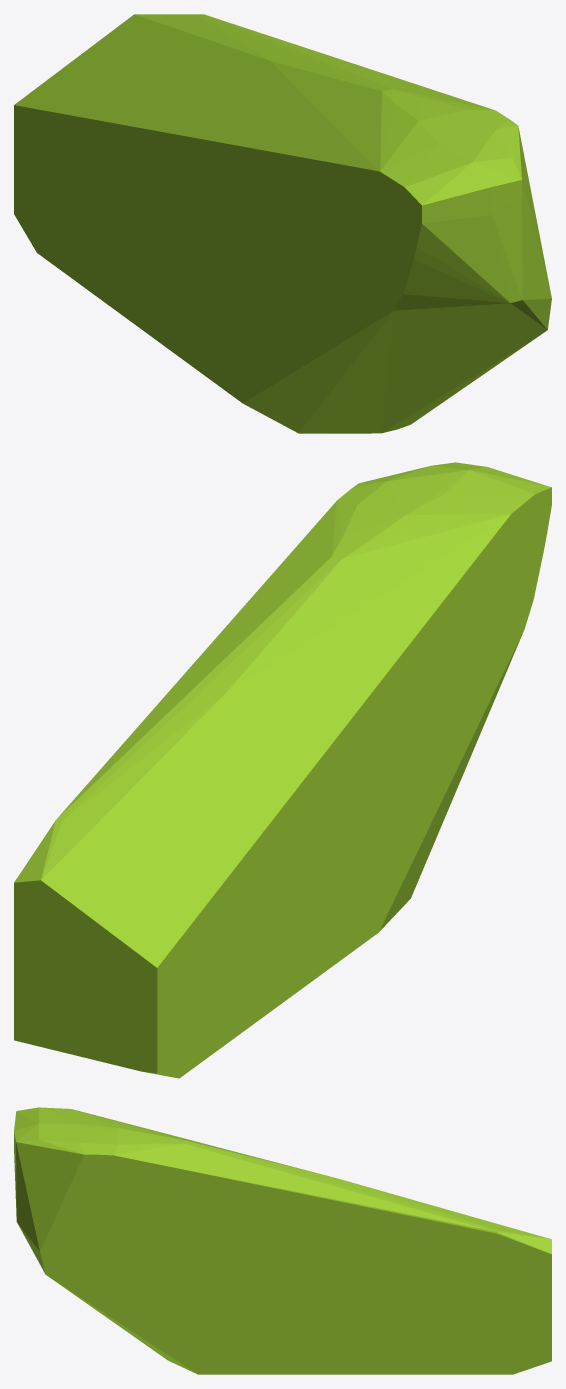
3 views of the same model, one above another, from view 1: azimuth 30°, elevation 25°; view 2: azimuth 150°, elevation 25°; view 3: azimuth 270°, elevation 25° (orthographic). The views are drawn at different scales.
Bounding box in the file's own units: 0.00907 × 0.0201 × 0.0435.
